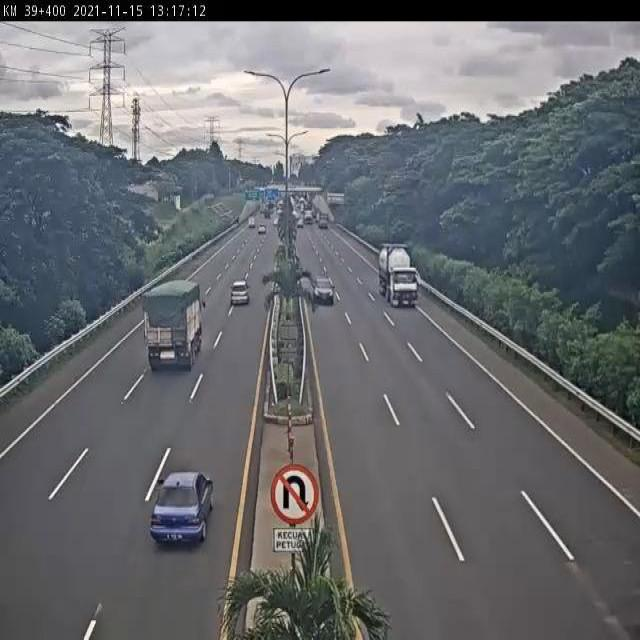car: (149, 468, 216, 543), (311, 275, 336, 308), (229, 279, 251, 308)
truck-l-: (144, 278, 203, 374)
truck-xl-: (376, 240, 421, 311)
